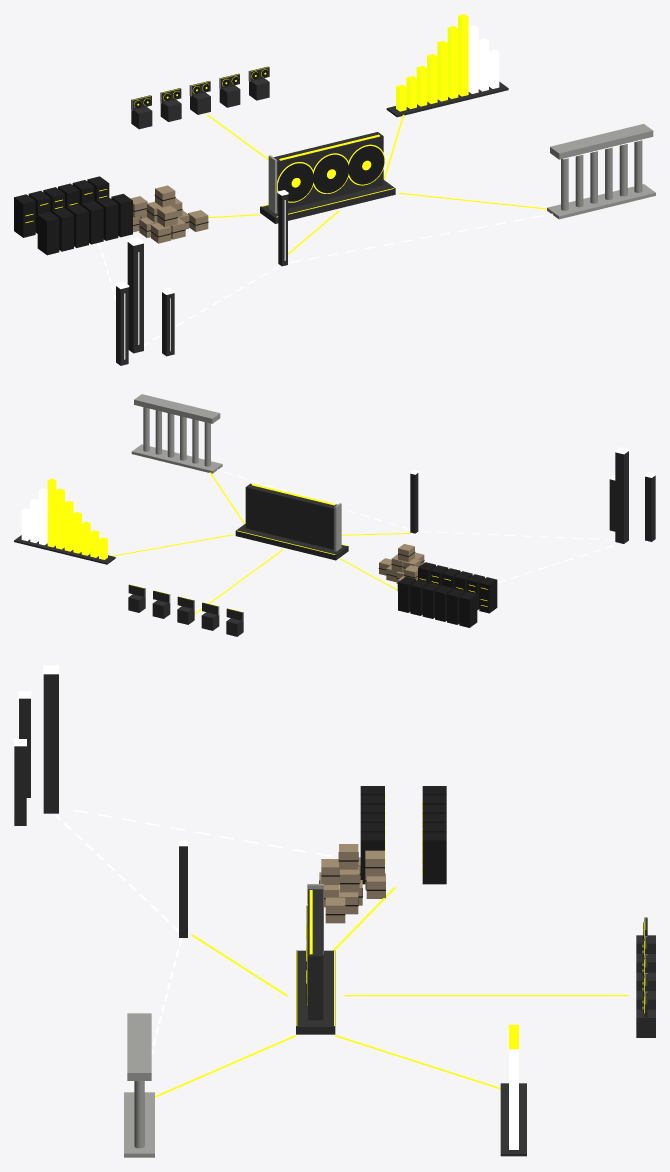
The model's file is vault.glb.
The picture shows the model from 3 angles, top to bottom: view 1: azimuth 30°, elevation 25°; view 2: azimuth 150°, elevation 25°; view 3: azimuth 270°, elevation 25°; orthographic projection. The views are drawn at different scales.
Parts seen in each view (by area): view 1: box_body (×7), box_rack (×7), box_stone (×3), cyl_rack (×3), box_greendim (×4), box_whitedim (×2); view 2: box_body (×6), box_rack (×7), box_stone (×3), box_greendim (×4), box_whitedim (×2); view 3: box_body (×7), box_stone (×2), box_rack, cyl_stone.
Part boxes in pixels (bbox=[...]): box_body (×7): bbox=[116, 81, 508, 365]; box_rack (×7): bbox=[14, 194, 132, 255]; box_stone (×3): bbox=[268, 124, 655, 219]; cyl_rack (×3): bbox=[278, 146, 384, 201]; box_greendim (×4): bbox=[427, 14, 468, 103]; box_whitedim (×2): bbox=[468, 25, 488, 93]; box_body (×6): bbox=[14, 451, 655, 564]; box_rack (×7): bbox=[398, 576, 497, 627]; box_stone (×3): bbox=[131, 394, 341, 551]; box_greendim (×4): bbox=[47, 478, 81, 553]; box_whitedim (×2): bbox=[30, 488, 47, 545]; box_body (×7): bbox=[14, 674, 526, 1156]; box_stone (×2): bbox=[124, 1013, 154, 1157]; box_rack: bbox=[422, 832, 446, 884]; cyl_stone: bbox=[134, 1081, 144, 1148].
Size of what is drawn, in the model's own units: 39.2 by 7.1 by 29.14.
